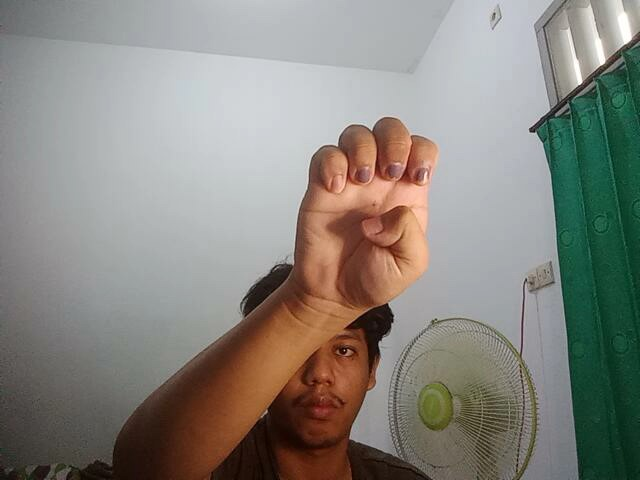E: (290, 105, 441, 315)
